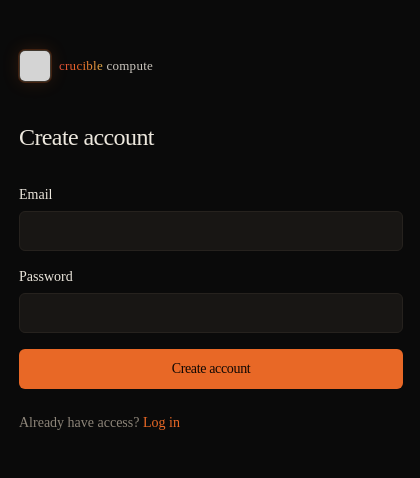
Scenario: auth pages › shows animated signup feedback while creating an account
The image size is (420, 478).
Type "judge@example.com" into the field labelled "Email" at (211, 230), box [19,210,403,250]
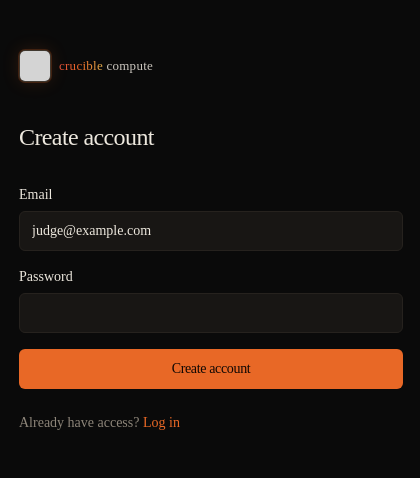
Type "correct horse battery staple" into the password field labelled "Password" at (211, 312), box [19,292,403,332]
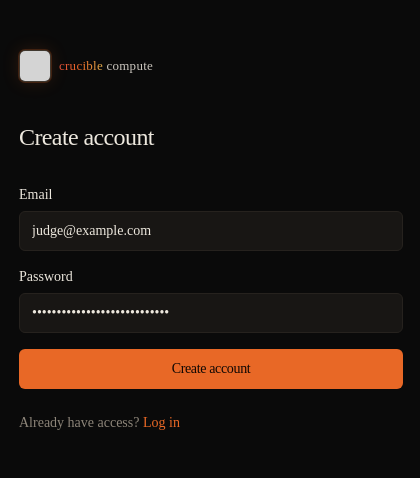
Click the button "Create account" at (211, 368), box [19,348,403,388]
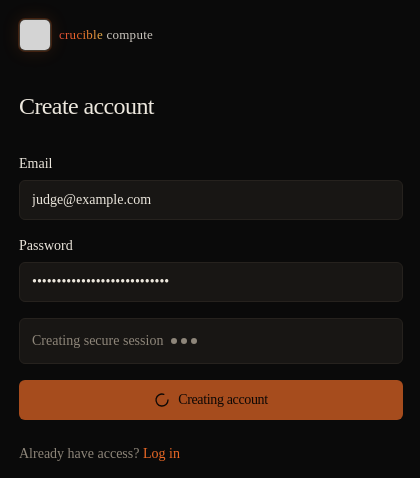
Now the message named "Account creation in progress" reads "Creating secure session", box [32,332,163,348]
Now the button "Creating account" is disabled, box [19,380,403,420]
